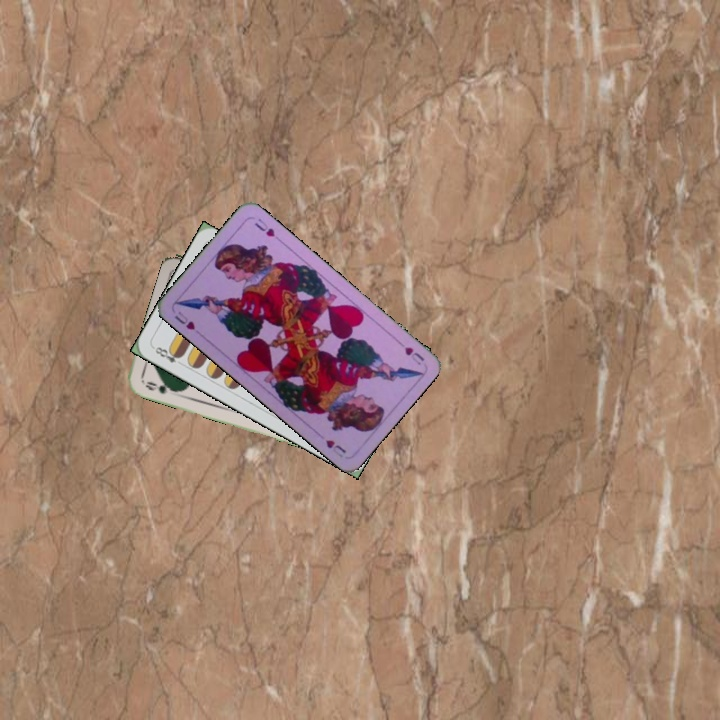E8: (149, 342, 186, 369)
GO: (141, 377, 180, 397)
HU: (392, 336, 427, 368), (170, 307, 204, 338)
